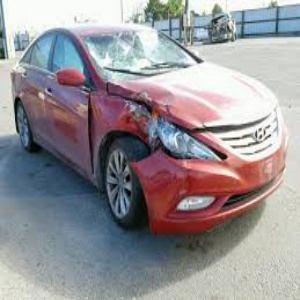bonnet: (121, 81, 193, 123)
bumper: (131, 154, 223, 236)
